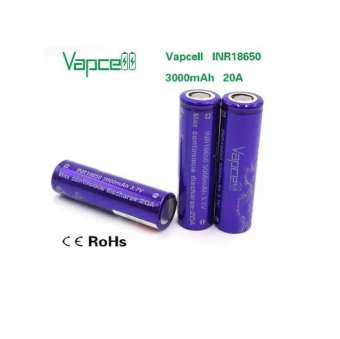Battery: (48, 157, 178, 234), (214, 89, 266, 234), (176, 88, 221, 231)
